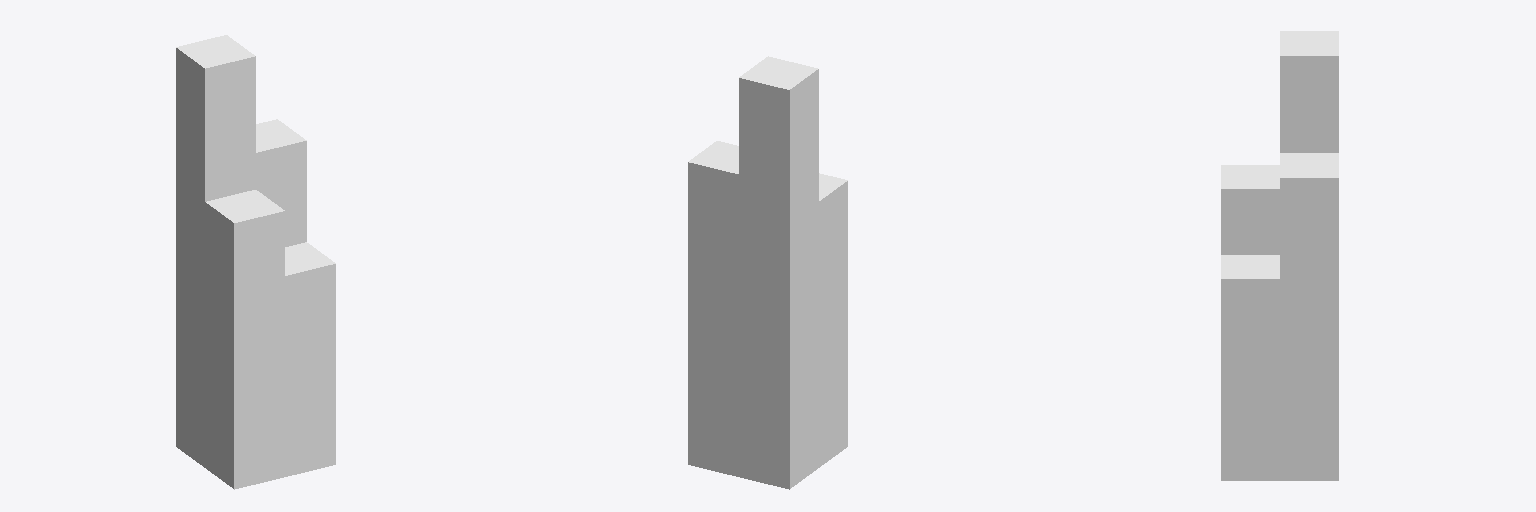
Rendered from highrise_12.obj.
The picture shows the model from 3 angles: view 1: azimuth 30°, elevation 25°; view 2: azimuth 150°, elevation 25°; view 3: azimuth 270°, elevation 25°; orthographic projection.
Visible parts, largest first — view 1: Mesh1 Model; view 2: Mesh1 Model; view 3: Mesh1 Model.
Part boxes in pixels (x1,y1,x2,y2): Mesh1 Model: (176, 35, 335, 489); Mesh1 Model: (688, 56, 847, 489); Mesh1 Model: (1221, 31, 1338, 480).
Size of the model in its own units: 20 by 75 by 20.